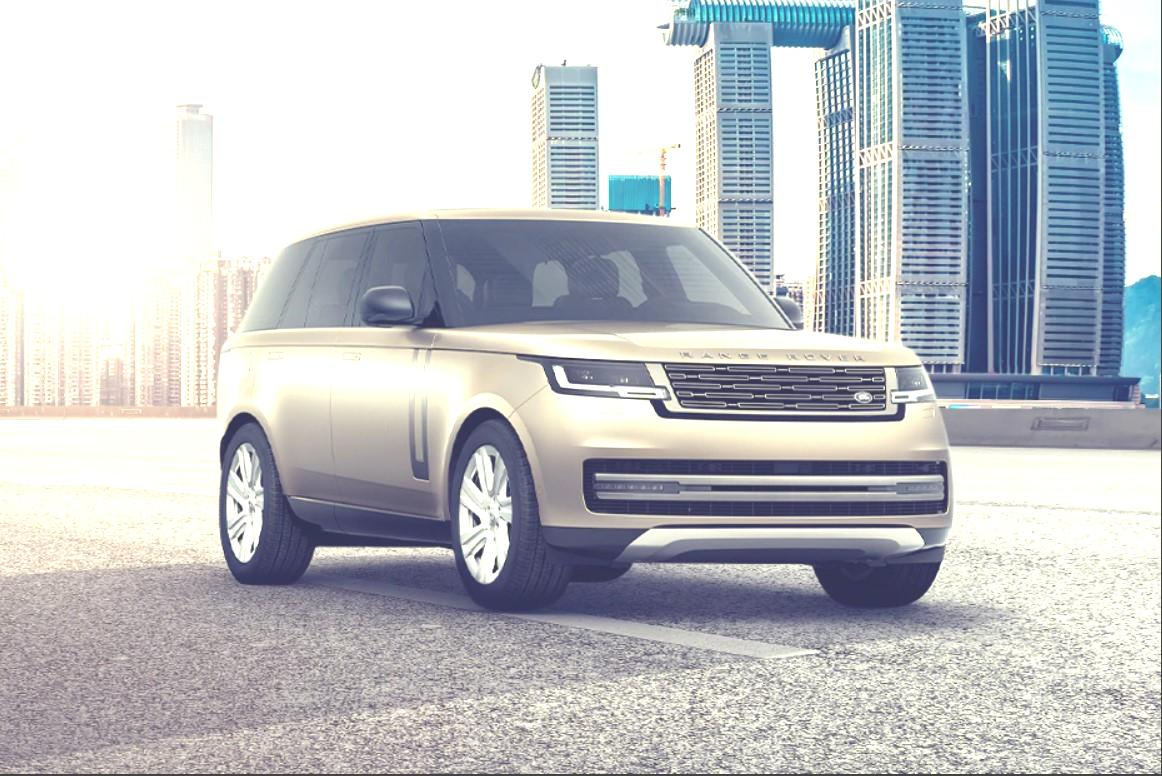range rover: (669, 340, 867, 372)
